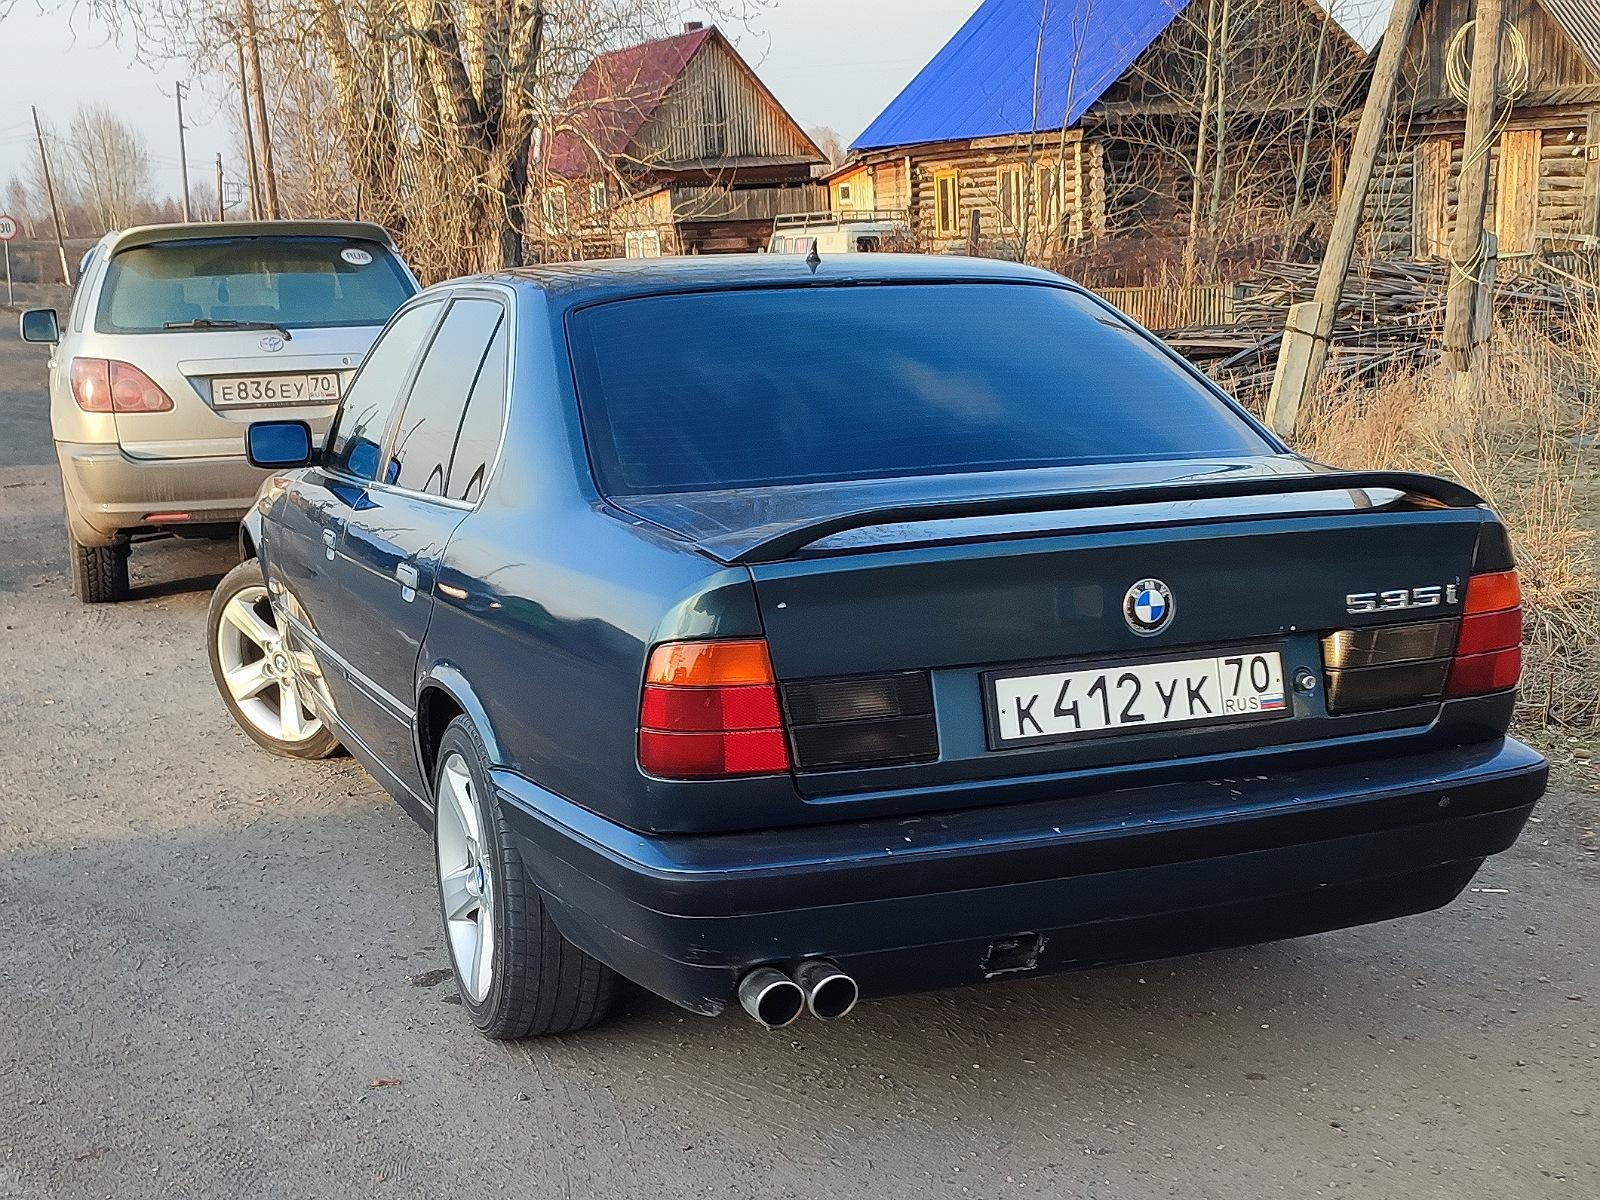license-plateSW: (993, 652, 1284, 741), (212, 378, 340, 405)
